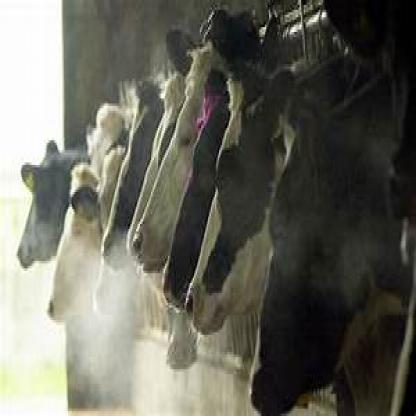cow: (248, 86, 415, 414), (184, 86, 278, 332), (162, 81, 235, 310), (132, 71, 204, 283), (100, 79, 161, 278), (44, 165, 100, 325), (15, 136, 72, 274)
